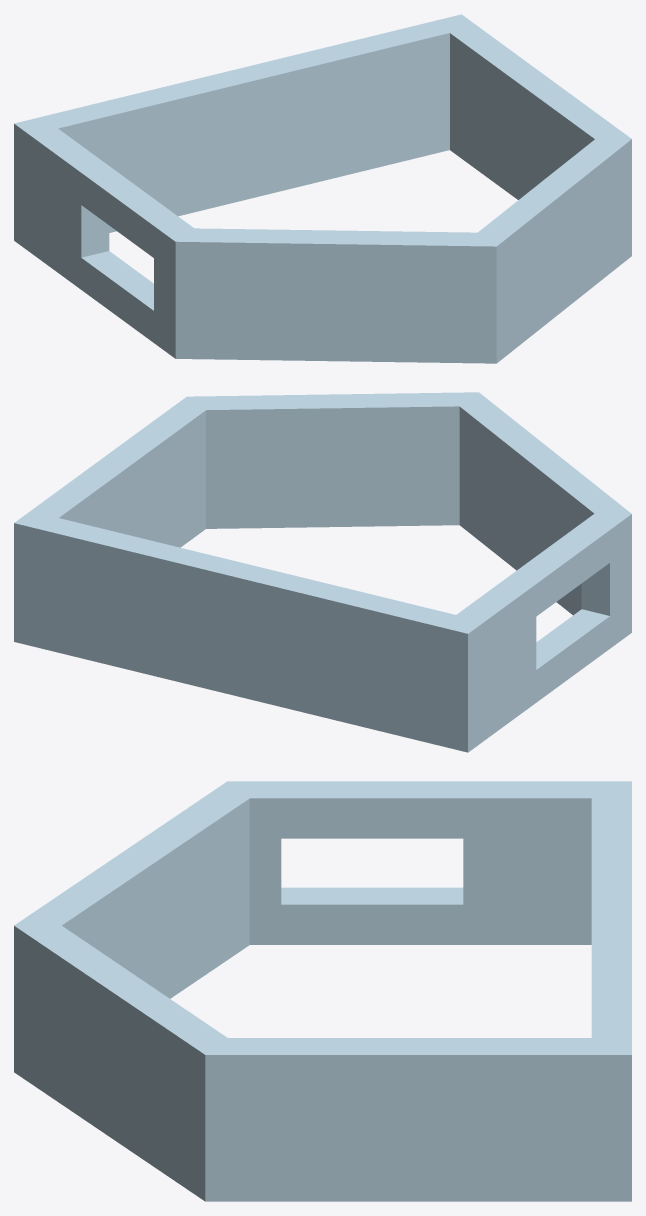
Rendered from small_window.glb.
3 renders of one model, top to bottom at view 1: azimuth 30°, elevation 25°; view 2: azimuth 150°, elevation 25°; view 3: azimuth 270°, elevation 25°, orthographic. The views are drawn at different scales.
Parts seen in each view (by area): view 1: endwall; view 2: endwall; view 3: endwall.
Part boxes in pixels (left/top/right/bottom): endwall: left=14, top=14, right=631, bottom=363; endwall: left=14, top=392, right=631, bottom=752; endwall: left=14, top=781, right=631, bottom=1201.
Size of the model in its own units: 4.8 by 1.2 by 4.58.
